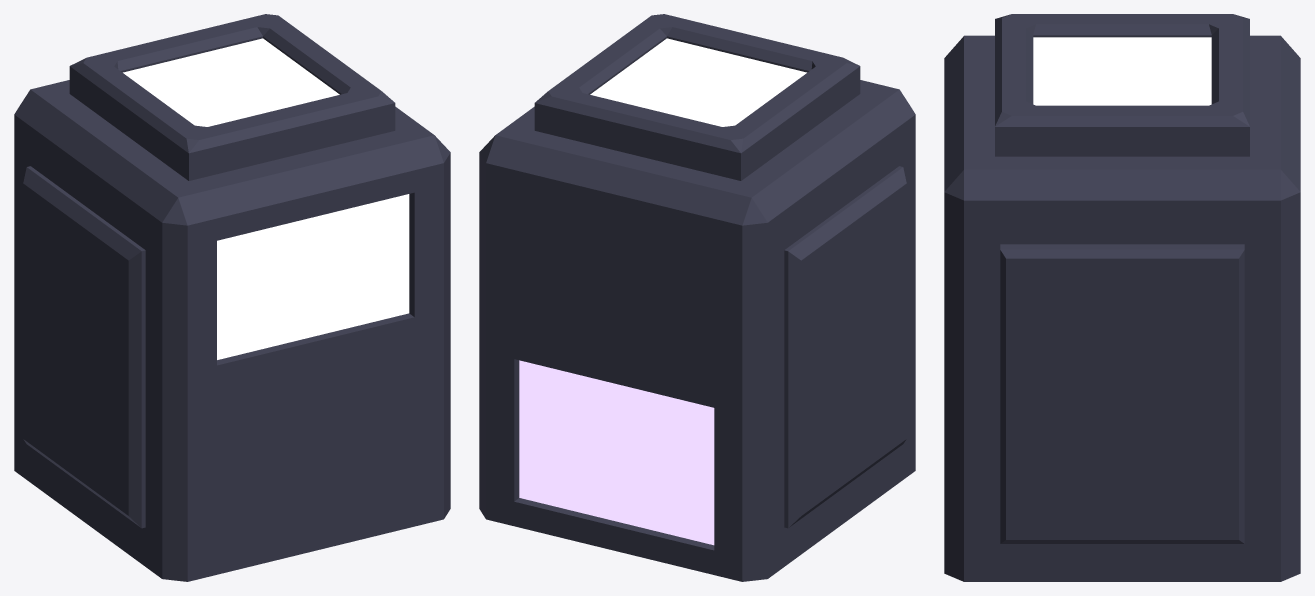
Rendered from Trash2.fbx.
The picture shows the model from 3 angles, left to right: view 1: azimuth 30°, elevation 25°; view 2: azimuth 150°, elevation 25°; view 3: azimuth 270°, elevation 25°; orthographic projection. The views are drawn at different scales.
Parts seen in each view (by area): view 1: Куб.001; view 2: Куб.001; view 3: Куб.001.
Boxes of the visible parts, x1,y1,x2,y2 form: Куб.001: (14, 14, 450, 581); Куб.001: (479, 14, 915, 581); Куб.001: (944, 14, 1300, 581).
Size of the model in its own units: 61.33 by 76.54 by 56.
